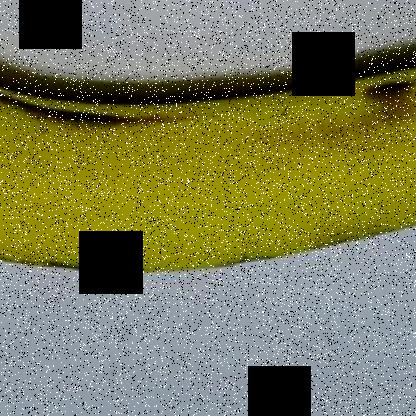freshripe: (1, 50, 415, 290)
